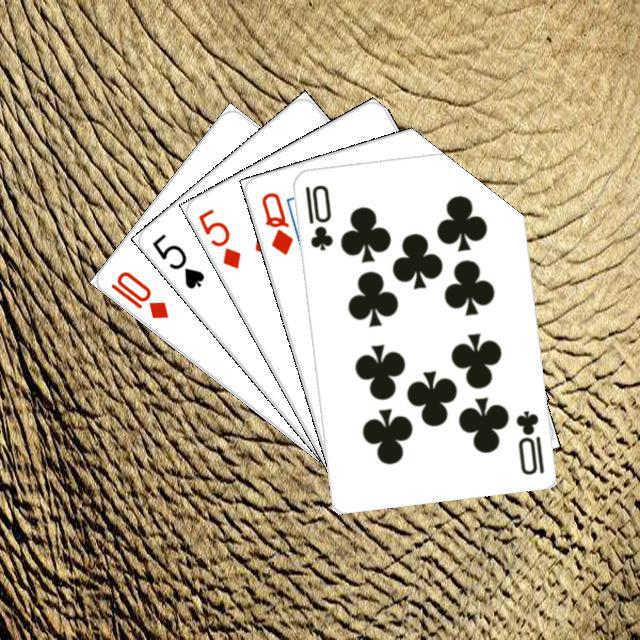10c: (510, 405, 546, 477), (300, 179, 335, 252)
10d: (105, 265, 170, 321)
5d: (193, 204, 243, 271)
5s: (147, 228, 206, 291)
Qd: (256, 187, 295, 257)
